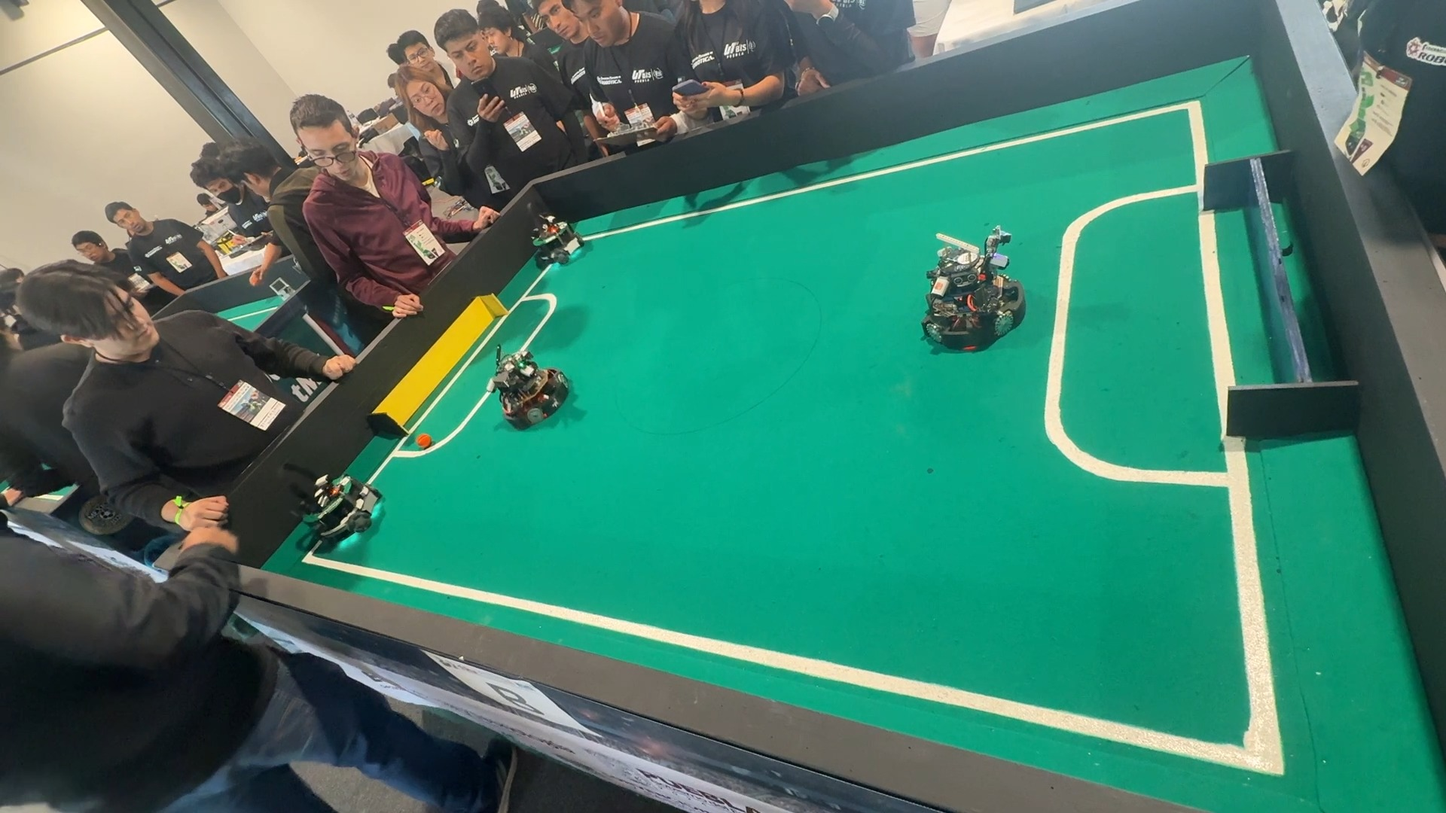Robot: (909, 218, 1019, 362), (472, 338, 578, 440), (302, 474, 387, 550), (526, 204, 589, 278)
pelota: (414, 436, 430, 451)
